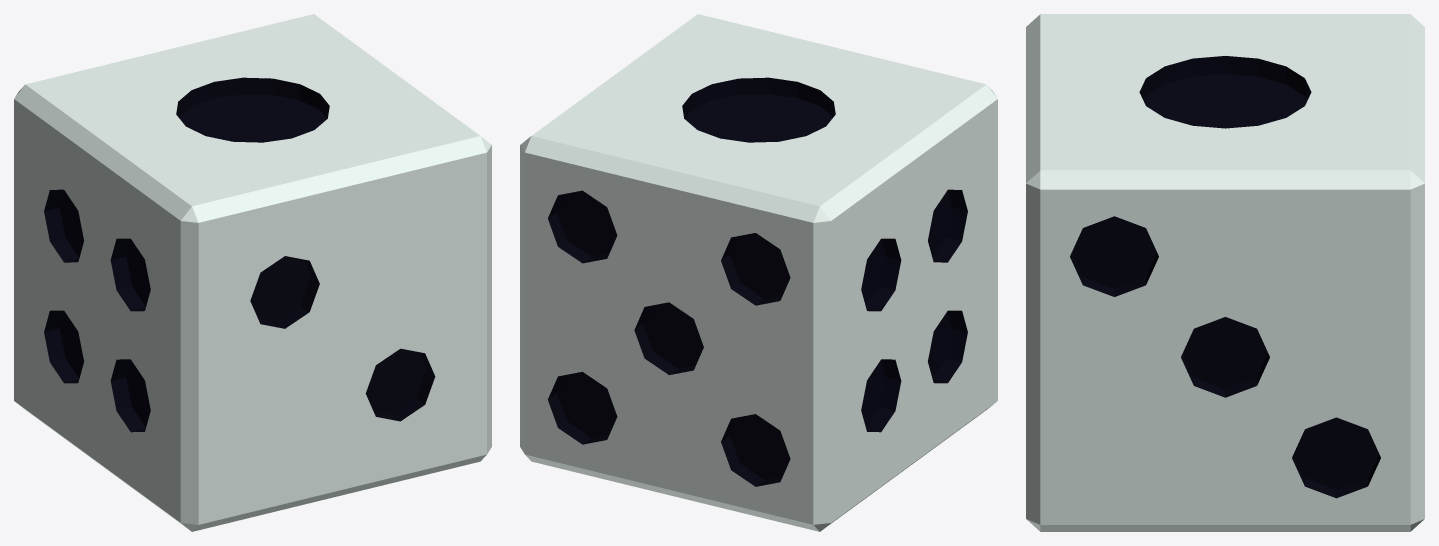
Rendered from dice.fbx.
3 views of the same model, side by side, from view 1: azimuth 30°, elevation 25°; view 2: azimuth 150°, elevation 25°; view 3: azimuth 270°, elevation 25° (orthographic). The views are drawn at different scales.
Visible parts, largest first — view 1: dice; view 2: dice; view 3: dice.
Boxes of the visible parts, <box> form: dice: <box>14,14,491,531</box>; dice: <box>520,14,997,531</box>; dice: <box>1026,14,1424,531</box>.
Bounding box in the file's own units: 2 × 2 × 2.
